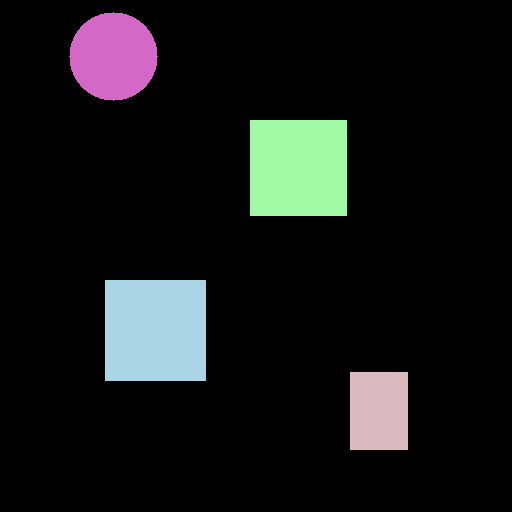circle: (69, 12, 157, 100)
rectangle: (350, 372, 407, 449)
square: (105, 280, 205, 380), (250, 120, 346, 215)
